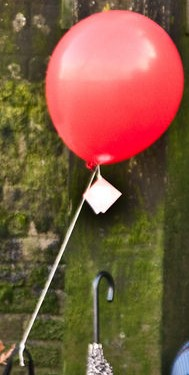Balloon: (44, 8, 182, 166)
